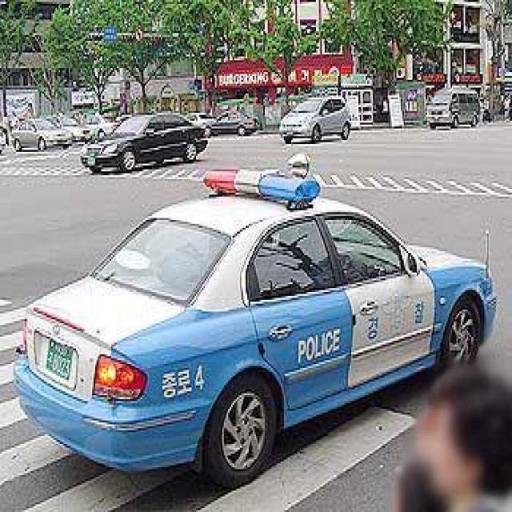Ambulance: (20, 173, 498, 469)
